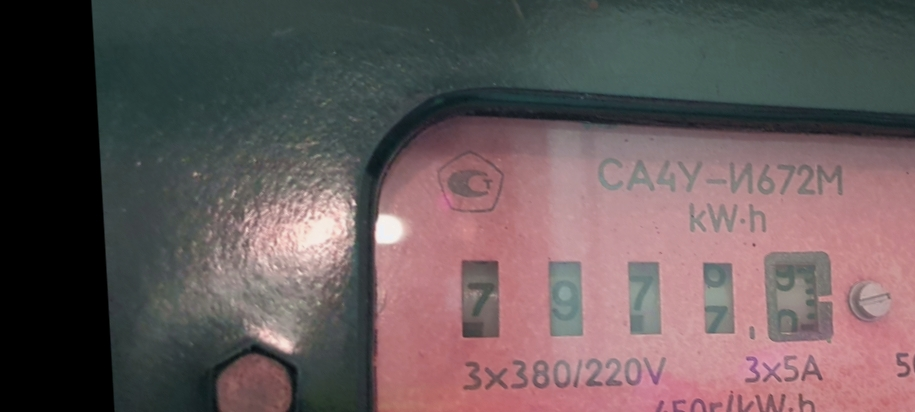0: (776, 306, 801, 336)
7: (463, 277, 499, 324), (703, 297, 735, 340), (629, 272, 660, 315)
9: (550, 277, 583, 326), (772, 262, 804, 295)
screen: (446, 228, 853, 376)
